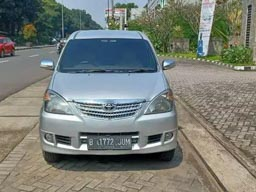plat: (87, 136, 135, 144)
